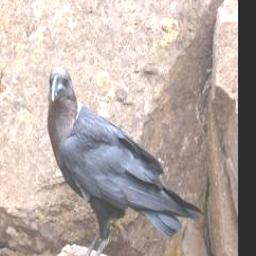Crow: (48, 64, 204, 256)
